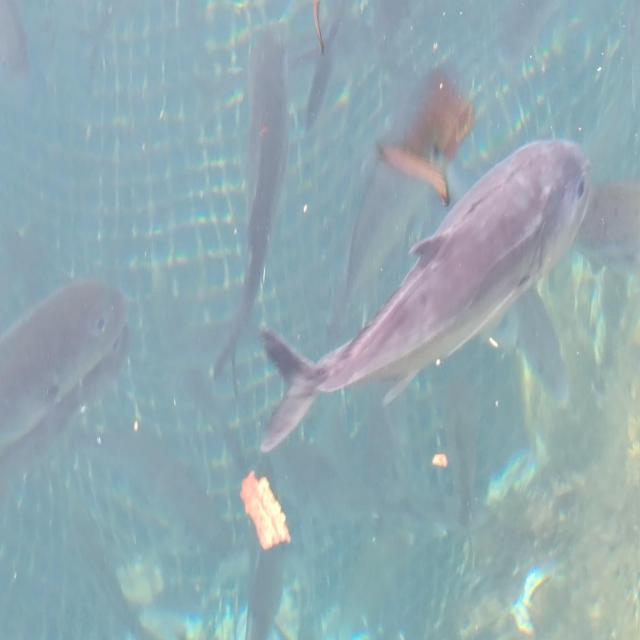ikan: (258, 136, 592, 454), (211, 2, 328, 384), (0, 276, 130, 454)
